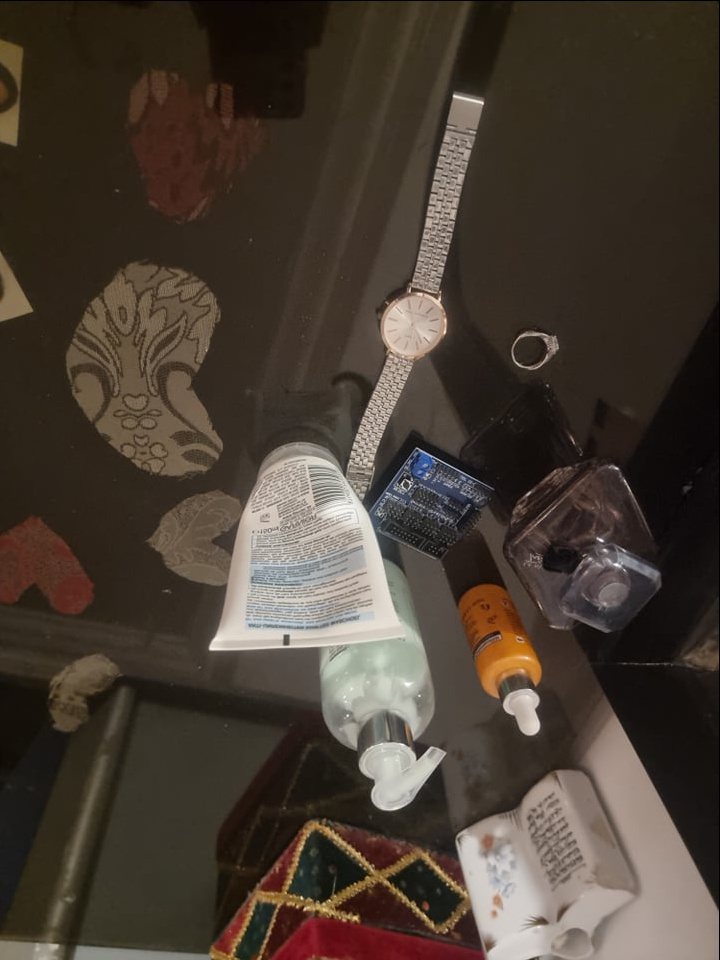5V EXPANSION: (373, 442, 495, 558)
